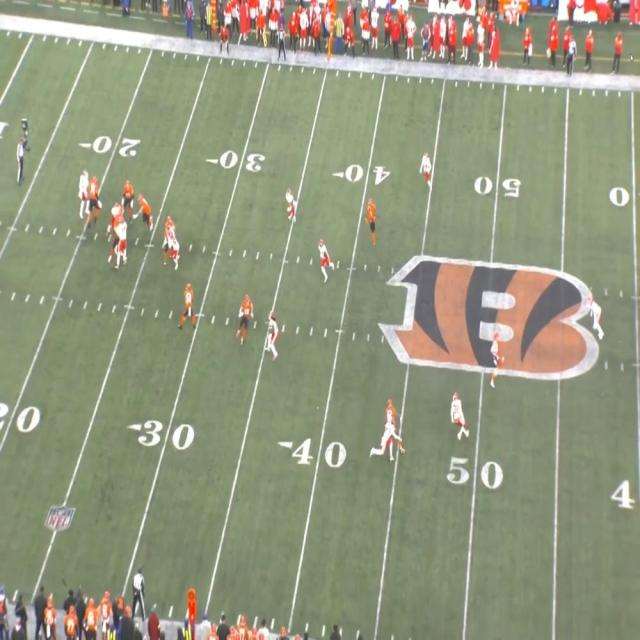center: (236, 294, 252, 344)
db: (374, 418, 396, 454), (450, 391, 466, 440), (590, 299, 602, 336), (287, 192, 299, 224), (421, 152, 431, 187)
lb: (318, 239, 329, 278), (268, 310, 276, 356)
skill: (386, 399, 396, 455), (367, 198, 379, 238), (489, 334, 498, 386), (183, 287, 194, 329)
